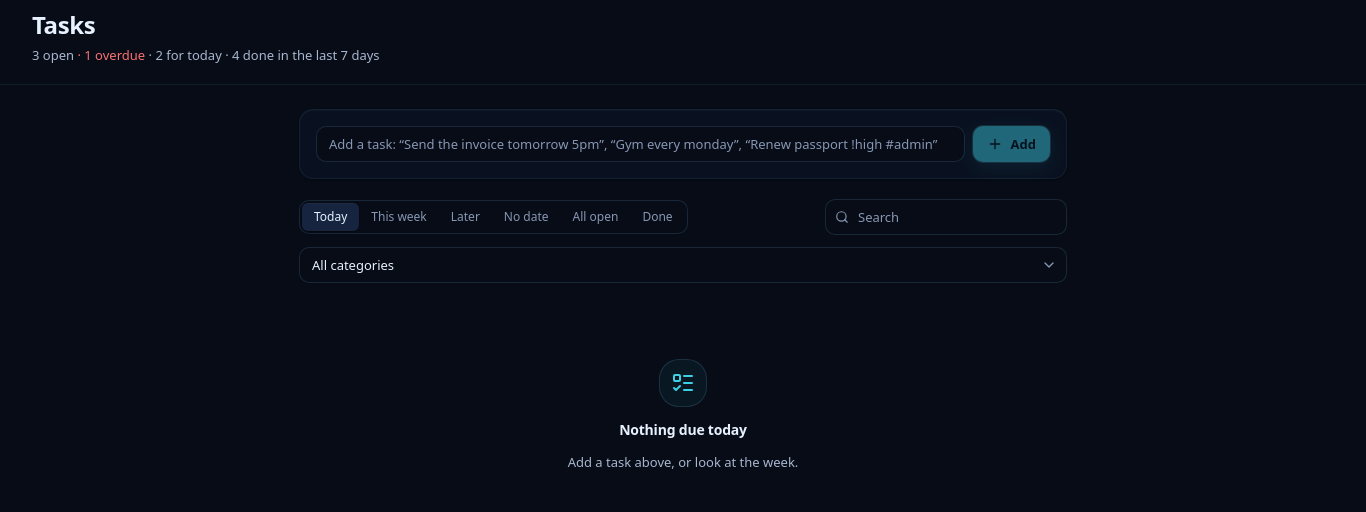
Scenario: Tasks page › shows how a line will be understood, adds it, and says when a title is missing
The image size is (1366, 512).
Expected: the heading "Nothing due today" is shown, x1=619 y1=419 x2=747 y2=441
Replace the text in the field named "New task" with "Send the invoice tomorrow 5pm !high #work" at (640, 144), box x1=316 y1=126 x2=965 y2=162
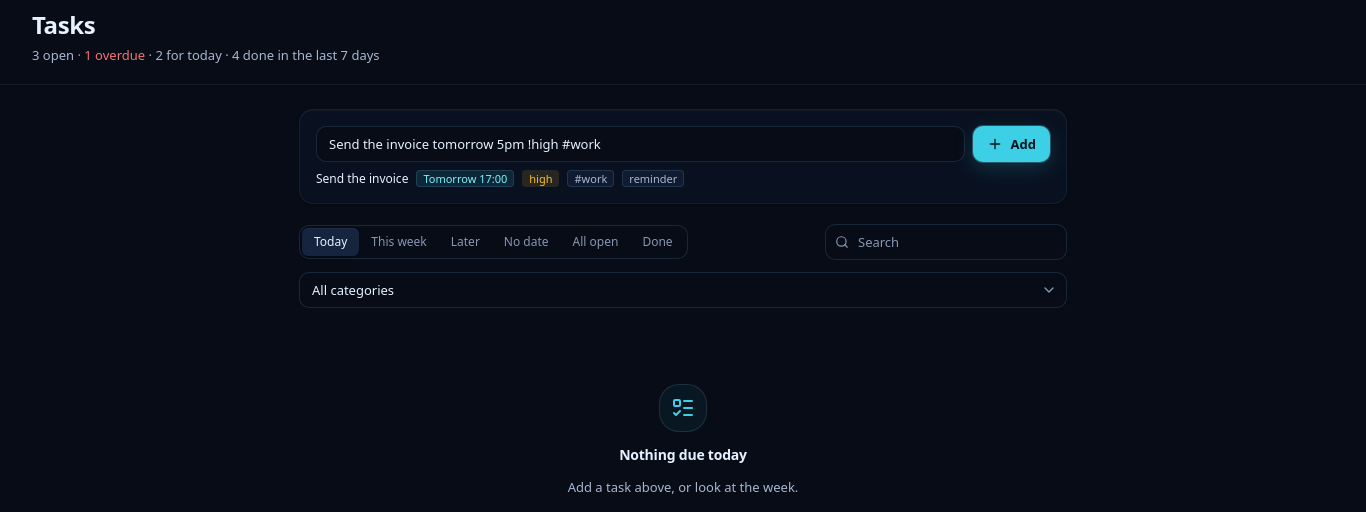
Expected: the text "Tomorrow 17:00" is shown, x1=416 y1=170 x2=514 y2=187
Expected: the text "#work" is shown, x1=568 y1=170 x2=614 y2=187
Expected: the text "reminder" is shown, x1=622 y1=170 x2=684 y2=187
Click the button "Add" at (1011, 144), box x1=973 y1=126 x2=1050 y2=162
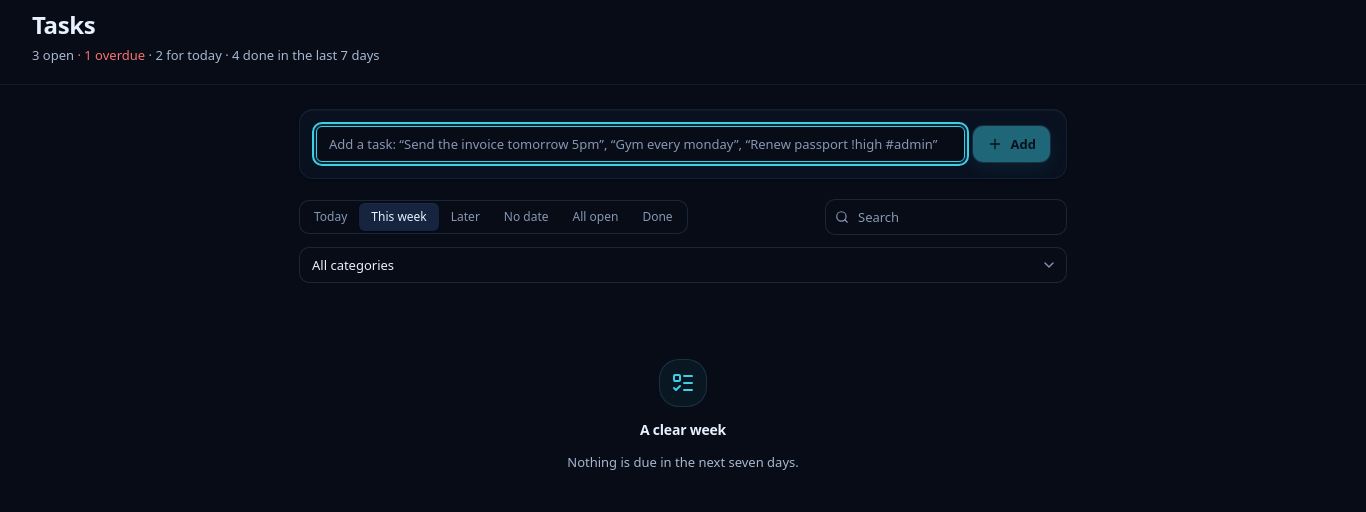
Expected: the field named "New task" is empty
Replace the text in the field named "New task" with "tomorrow" at (640, 144), box x1=316 y1=126 x2=965 y2=162
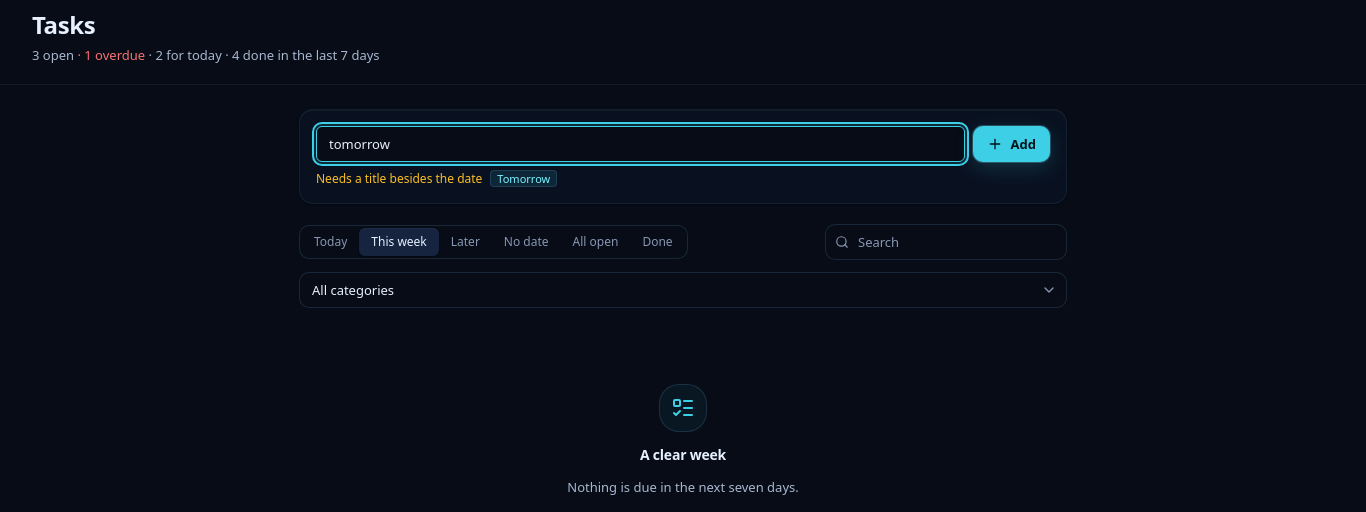
Expected: the text "Needs a title besides the date" is shown, x1=316 y1=171 x2=482 y2=187
